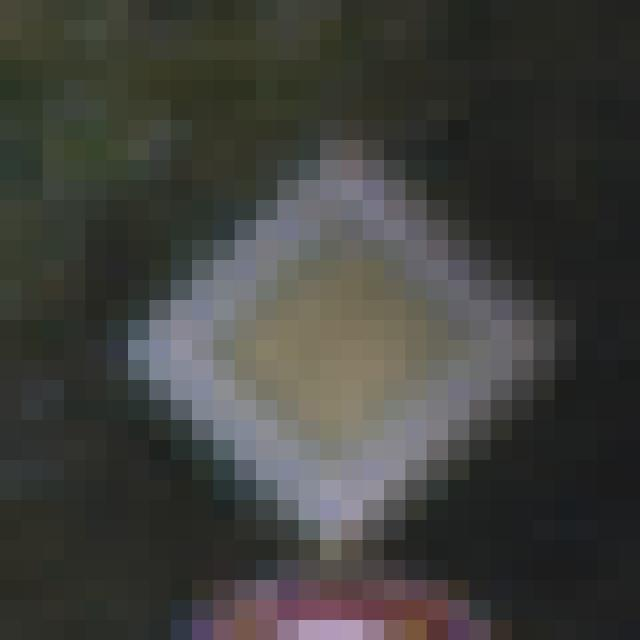Main Road: (108, 101, 534, 521)
